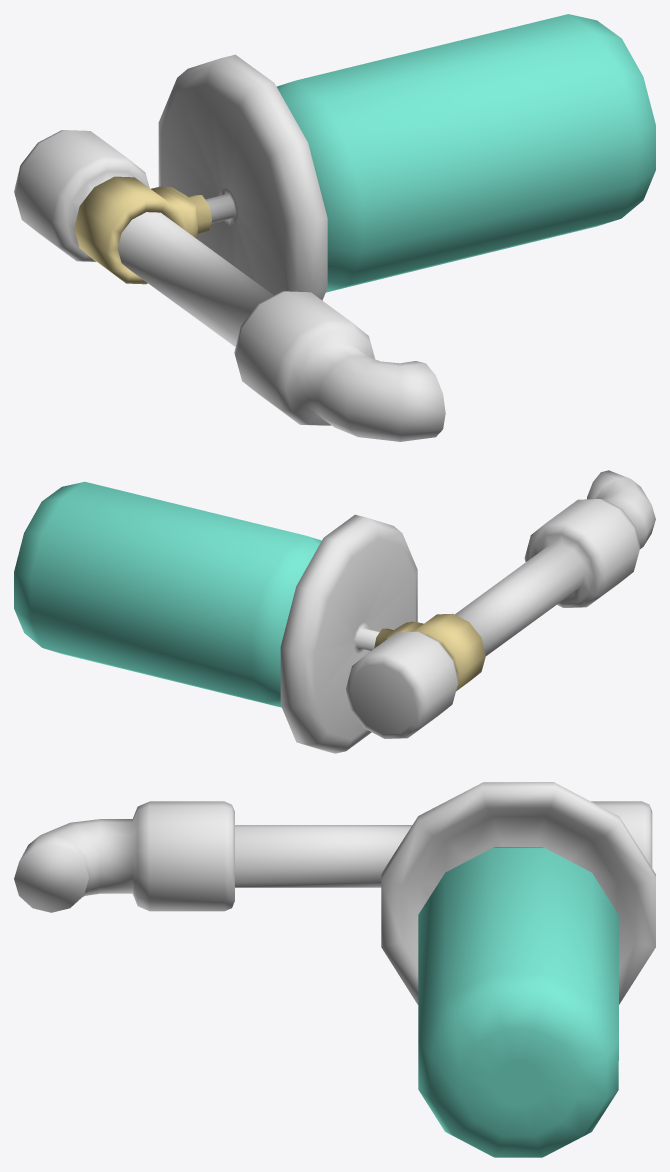
Rendered from spincylinder.fbx.
3 views of the same model, one above another, from view 1: azimuth 30°, elevation 25°; view 2: azimuth 150°, elevation 25°; view 3: azimuth 270°, elevation 25° (orthographic). The views are drawn at different scales.
Parts seen in each view (by area): view 1: Cylinder.033, Cylinder.030; view 2: Cylinder.033, Cylinder.030; view 3: Cylinder.033, Cylinder.030.
Part boxes in pixels (left/top/right/bottom): Cylinder.033: left=158, top=14, right=655, bottom=300; Cylinder.030: left=14, top=130, right=445, bottom=441; Cylinder.033: left=14, top=481, right=417, bottom=753; Cylinder.030: left=346, top=470, right=655, bottom=738; Cylinder.033: left=381, top=782, right=655, bottom=1157; Cylinder.030: left=14, top=801, right=652, bottom=912.
Bounding box in the file's own units: 3.83 × 1.78 × 4.16.
